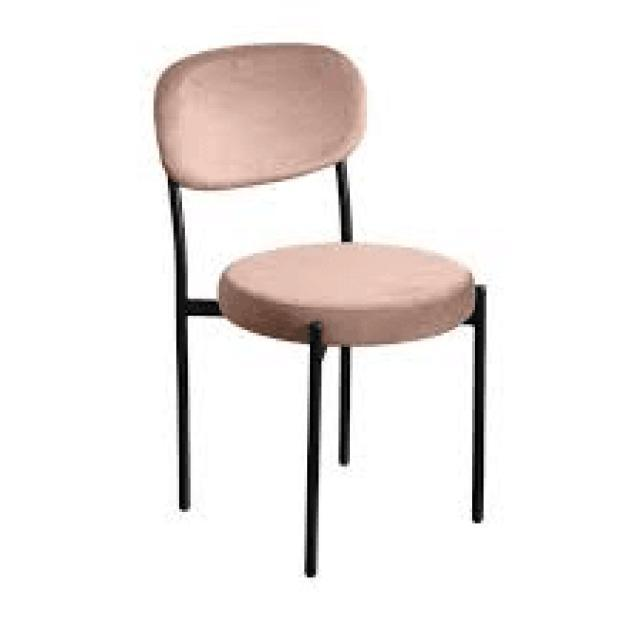chair: (144, 35, 495, 580), (167, 36, 490, 342)
